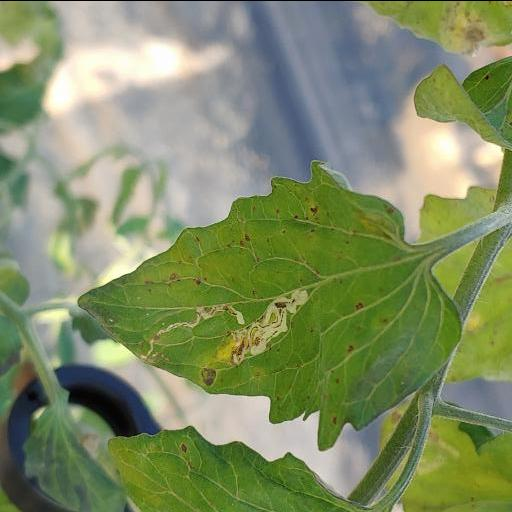disease_tomato: (76, 157, 464, 452)
